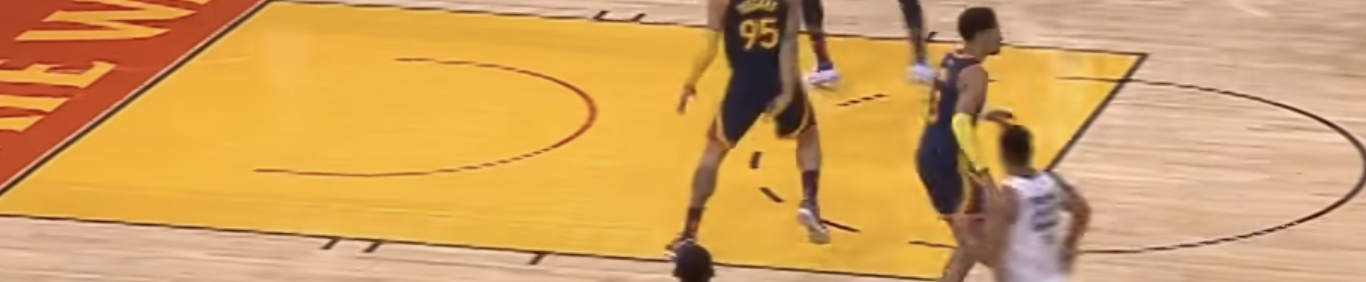endLine: (1, 1, 270, 196)
freeThrow: (955, 53, 1146, 280)
lane: (1, 213, 953, 282), (272, 1, 1146, 53)
